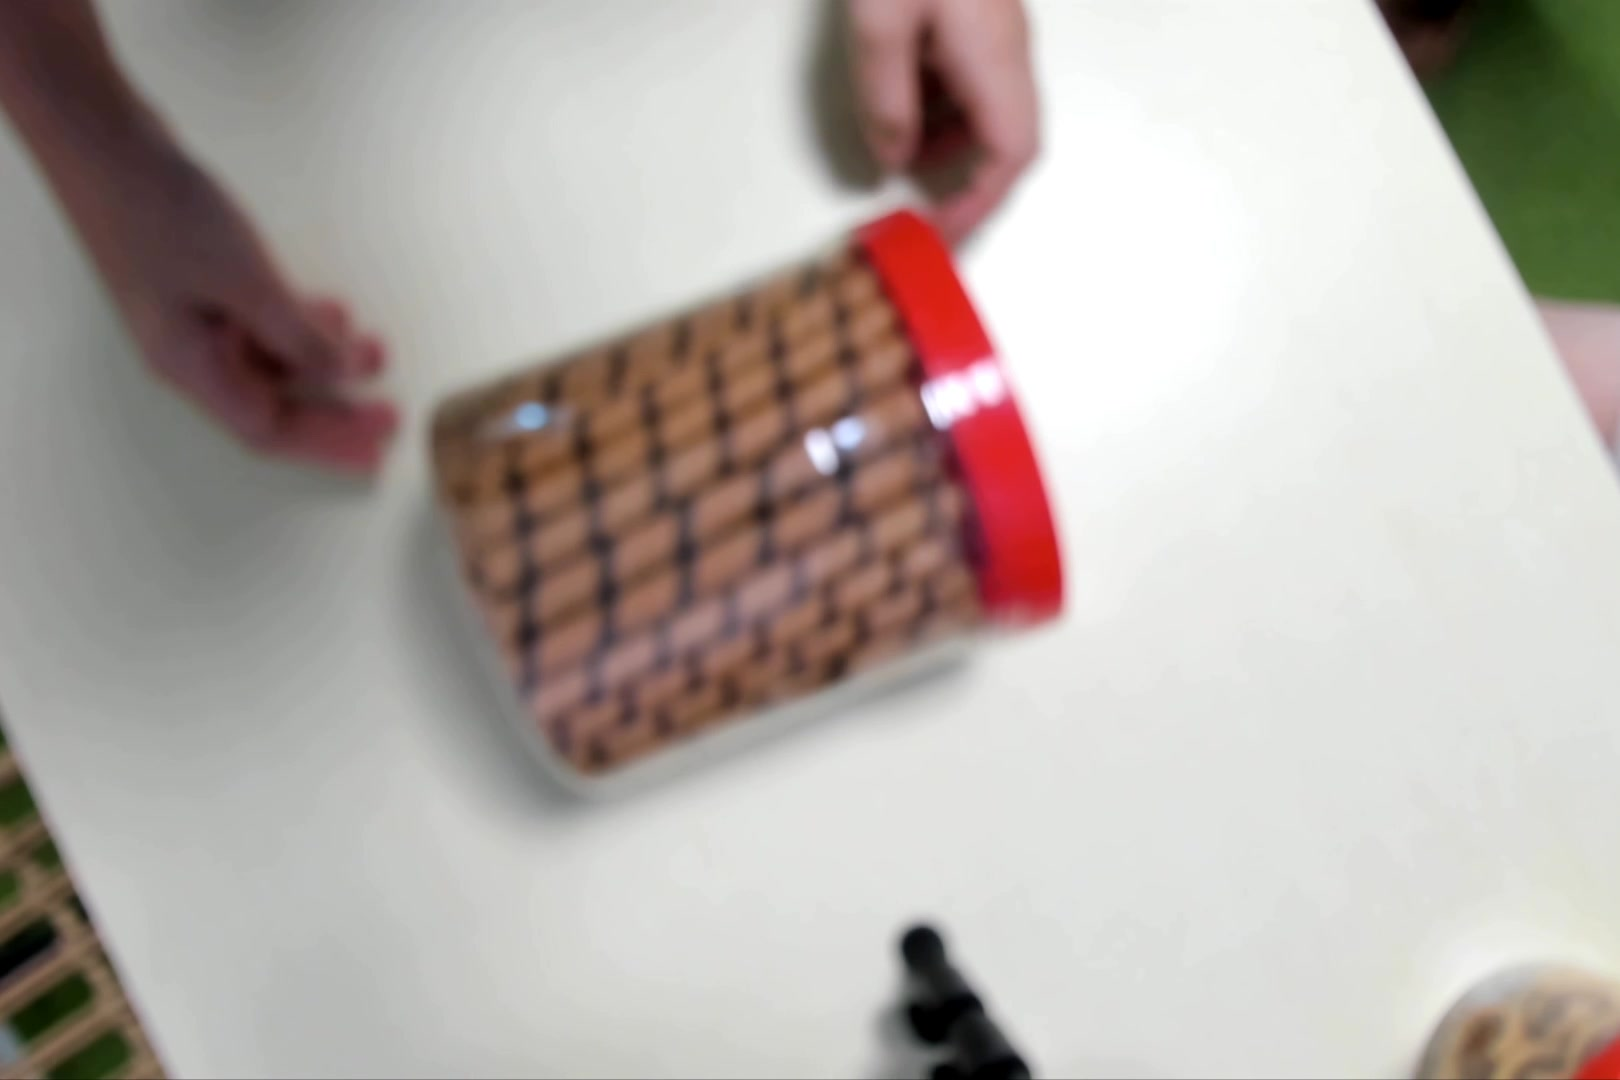BiscuitsCrackersCookies_400-499g_Halal_NonHealthy: (428, 198, 1067, 799)
